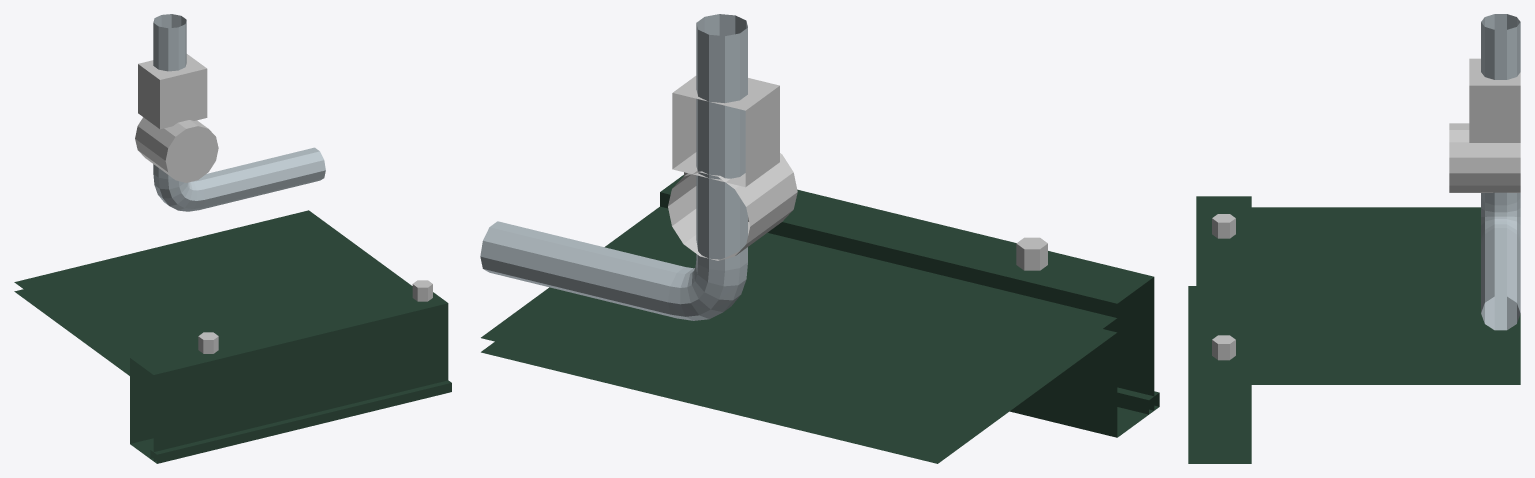
Rendered from cell_23.obj.
The picture shows the model from 3 angles, left to right: view 1: azimuth 30°, elevation 25°; view 2: azimuth 150°, elevation 25°; view 3: azimuth 270°, elevation 25°; orthographic projection. The views are drawn at different scales.
Bounding box in the file's own units: 1 × 1 × 0.84.
